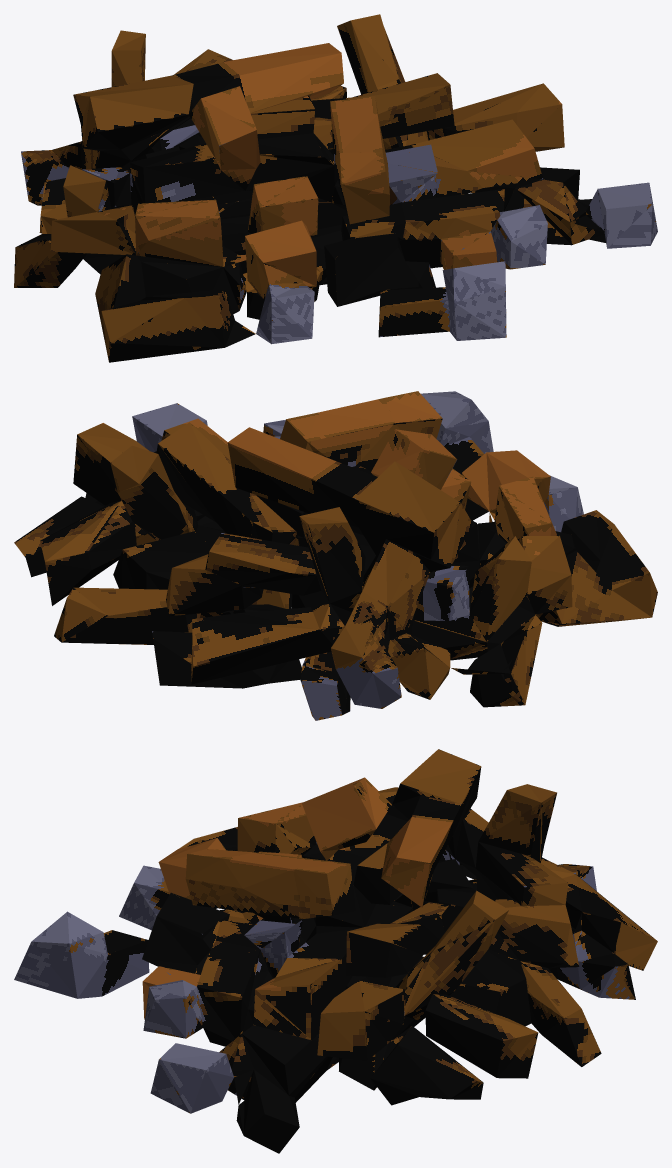
3 renders of one model, top to bottom at view 1: azimuth 30°, elevation 25°; view 2: azimuth 150°, elevation 25°; view 3: azimuth 270°, elevation 25°, orthographic.
Parts seen in each view (by area): view 1: OBJ0d1; view 2: OBJ0d1; view 3: OBJ0d1.
Boxes of the visible parts, left/top/right/bottom form: OBJ0d1: left=14, top=14, right=657, bottom=362; OBJ0d1: left=14, top=391, right=657, bottom=720; OBJ0d1: left=14, top=749, right=657, bottom=1153.
Size of the model in its own units: 0.4468 by 0.1657 by 0.4636.
1 material, 1 textured.
